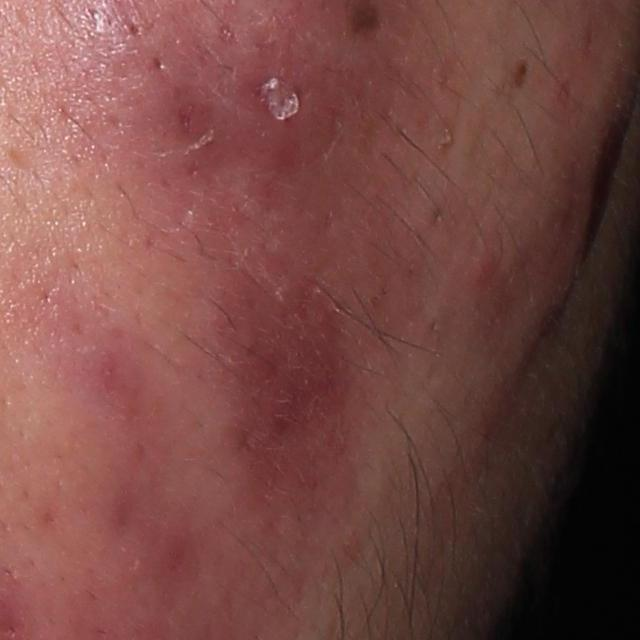nevus: (506, 57, 529, 88)
